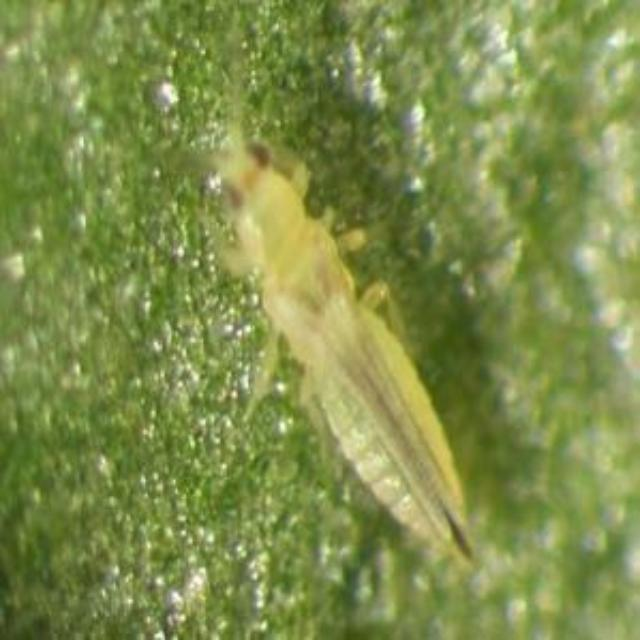melon thrips: (162, 83, 536, 601)
